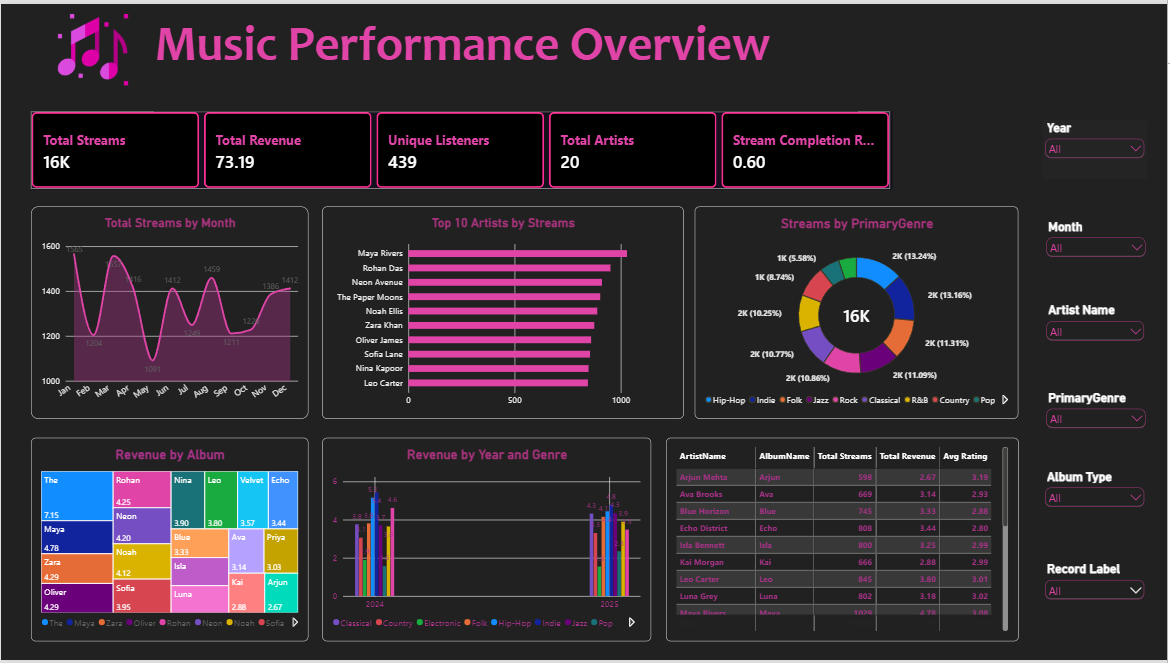

The page's visual inventory and layout, read from the dashboard file:
{"tool":"powerbi","page":{"name":"Page 1","canvas":[1920,1080],"ordinal":0},"visuals":[{"type":"textbox","box":[253.2,16.5,1156.8,117.3],"z":0},{"type":"cardVisual","fields":{"Data":["Music_Streams.Total Streams","Music_Streams.Total Revenue","Music_Streams.Unique Listeners","Music_Streams.Total Artists","Music_Streams.Stream Completion Rate"]},"box":[49.4,177,1418.2,127.6],"z":2},{"type":"lineChart","title":"Total Streams by Month","fields":{"Category":["Date.MonthName"],"Y":["Music_Streams.Total Streams"]},"box":[49.4,333.4,456.9,349.9],"z":3},{"type":"clusteredBarChart","title":"Top 10 Artists by Streams","fields":{"Category":["Artist.ArtistName"],"Y":["Music_Streams.Total Streams"]},"box":[529,333.4,594.9,349.9],"z":4},{"type":"donutChart","title":"Streams by PrimaryGenre","fields":{"Category":["Artist.PrimaryGenre"],"Y":["Music_Streams.Total Streams"]},"box":[1142.4,333.4,533.1,349.9],"z":5},{"type":"treemap","title":"Revenue by Album","fields":{"Group":["Album.AlbumName"],"Values":["Music_Streams.Total Revenue"]},"box":[49.4,714.2,456.9,335.5],"z":6},{"type":"clusteredColumnChart","title":"Revenue by Year and Genre","fields":{"Category":["Date.Year"],"Series":["Artist.PrimaryGenre"],"Y":["Music_Streams.Total Revenue"]},"box":[529,714.2,541.3,335.5],"z":7},{"type":"tableEx","fields":{"Values":["Artist.ArtistName","Album.AlbumName","Music_Streams.Total Streams","Music_Streams.Total Revenue","Music_Streams.Avg Rating"]},"box":[1095,714.2,580.4,335.5],"z":8},{"type":"slicer","fields":{"Values":["Date.Year"]},"box":[1714.6,191.4,172.9,96.7],"z":9},{"type":"slicer","fields":{"Values":["Date.MonthName"]},"box":[1716.6,354,172.9,88.5],"z":10},{"type":"slicer","fields":{"Values":["Artist.ArtistName"]},"box":[1716.6,491.9,170.8,94.7],"z":11},{"type":"slicer","fields":{"Values":["Artist.PrimaryGenre"]},"box":[1716.6,636,172.9,94.7],"z":12},{"type":"slicer","fields":{"Values":["Album.AlbumType"]},"box":[1714.6,765.7,172.9,90.6],"z":13},{"type":"slicer","fields":{"Values":["Album.RecordLabel"]},"box":[1714.6,918,172.9,96.7],"z":14},{"type":"image","box":[49.4,16.5,203.8,117.3],"z":15}]}

Visuals, with their boxes in screenshot pixels (x1, y1, x2, y2), scaled from the page's 1920x1080 canvas onto the 1170x663 screenshot:
textbox: box(154, 10, 859, 82)
cardVisual - Music_Streams.Total Streams x Music_Streams.Total Revenue: box(30, 109, 894, 187)
"Total Streams by Month" lineChart: box(30, 205, 309, 419)
"Top 10 Artists by Streams" clusteredBarChart: box(322, 205, 685, 419)
"Streams by PrimaryGenre" donutChart: box(696, 205, 1021, 419)
"Revenue by Album" treemap: box(30, 438, 309, 644)
"Revenue by Year and Genre" clusteredColumnChart: box(322, 438, 652, 644)
tableEx - Artist.ArtistName x Album.AlbumName: box(667, 438, 1021, 644)
slicer - Date.Year: box(1045, 117, 1150, 177)
slicer - Date.MonthName: box(1046, 217, 1151, 272)
slicer - Artist.ArtistName: box(1046, 302, 1150, 360)
slicer - Artist.PrimaryGenre: box(1046, 390, 1151, 449)
slicer - Album.AlbumType: box(1045, 470, 1150, 526)
slicer - Album.RecordLabel: box(1045, 564, 1150, 623)
image: box(30, 10, 154, 82)
